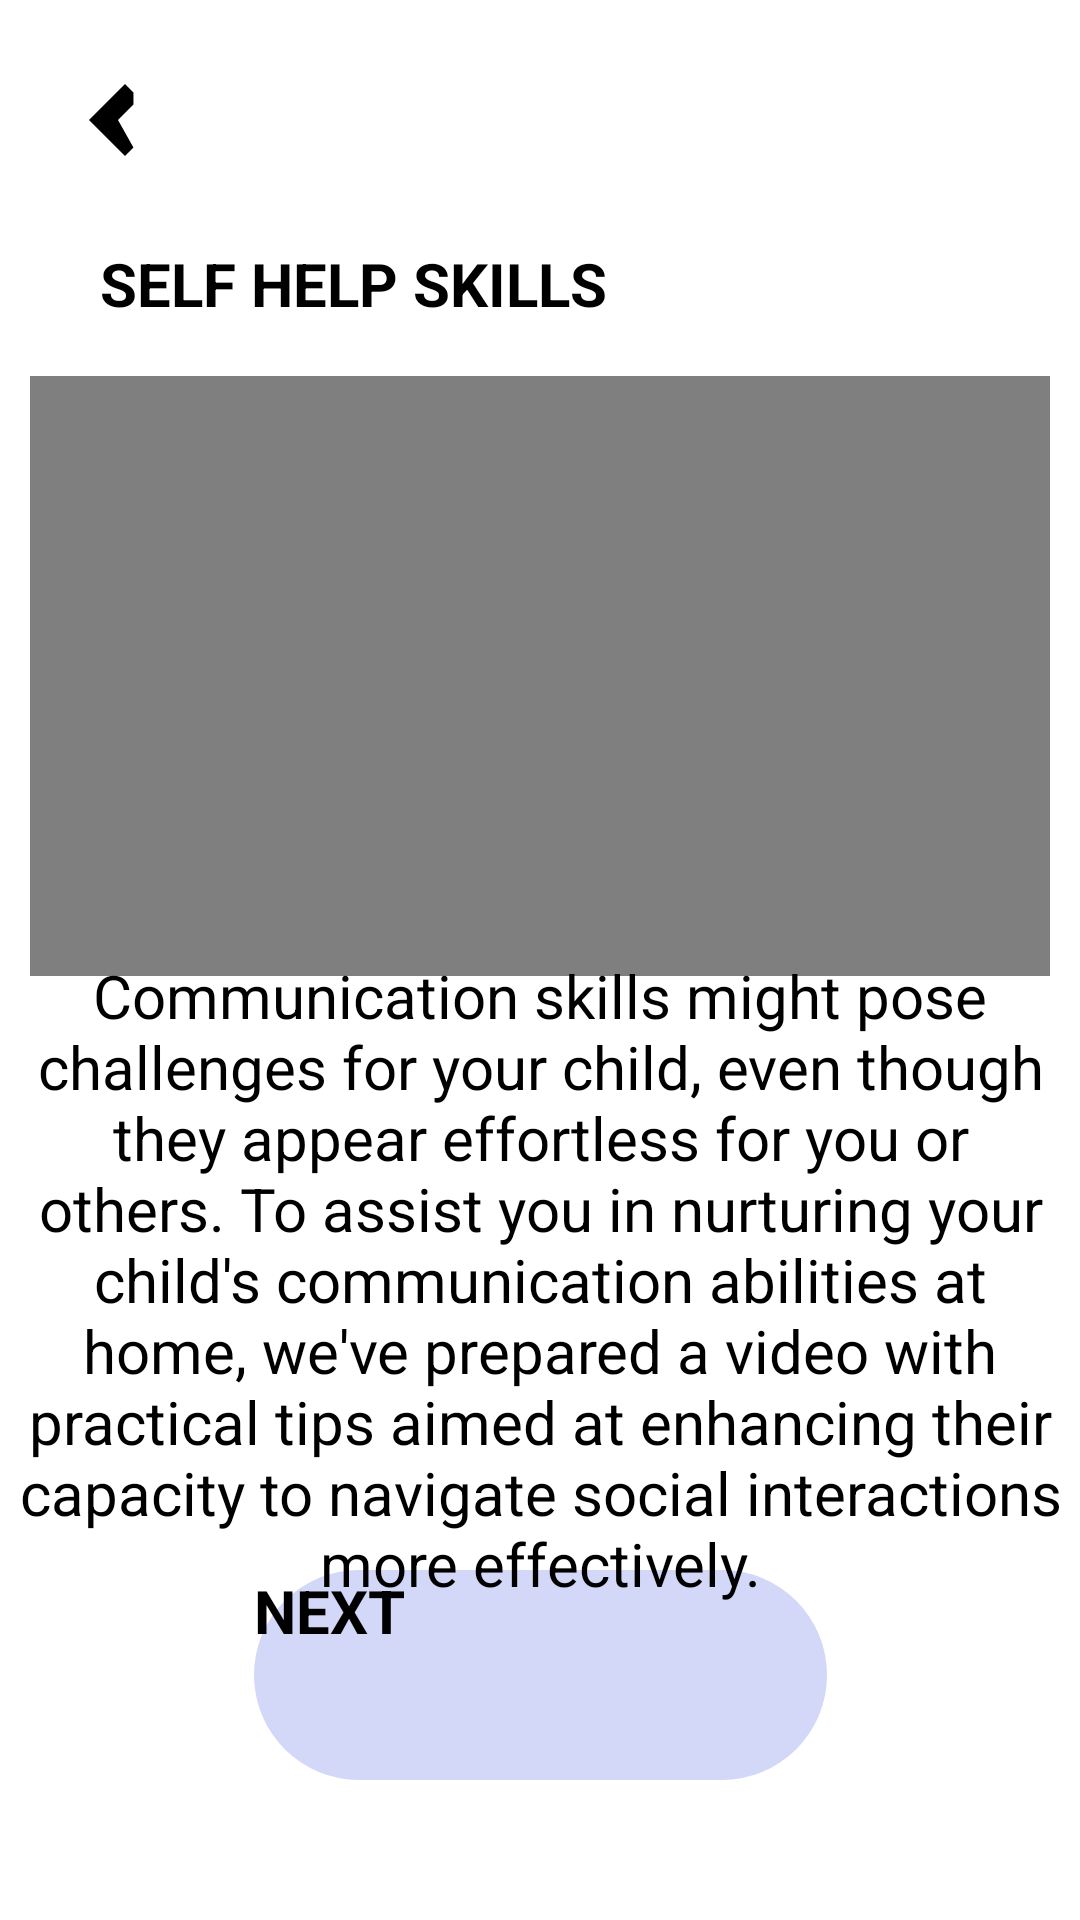

Named icons in this screenshot (1080w x 1920h) and their centers, (x,y):
back: (111,120)
